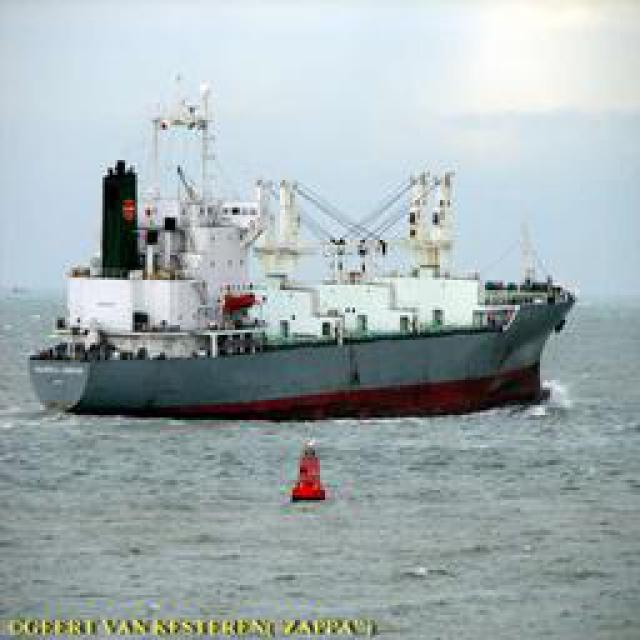Ship: (27, 81, 570, 429)
